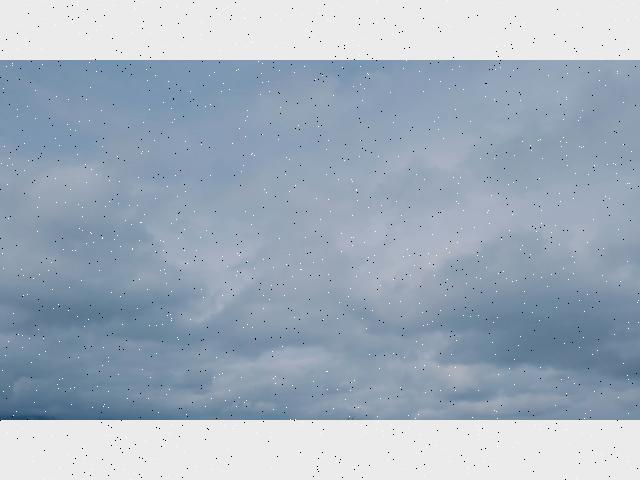Anti-Drone: (390, 275, 400, 283)
